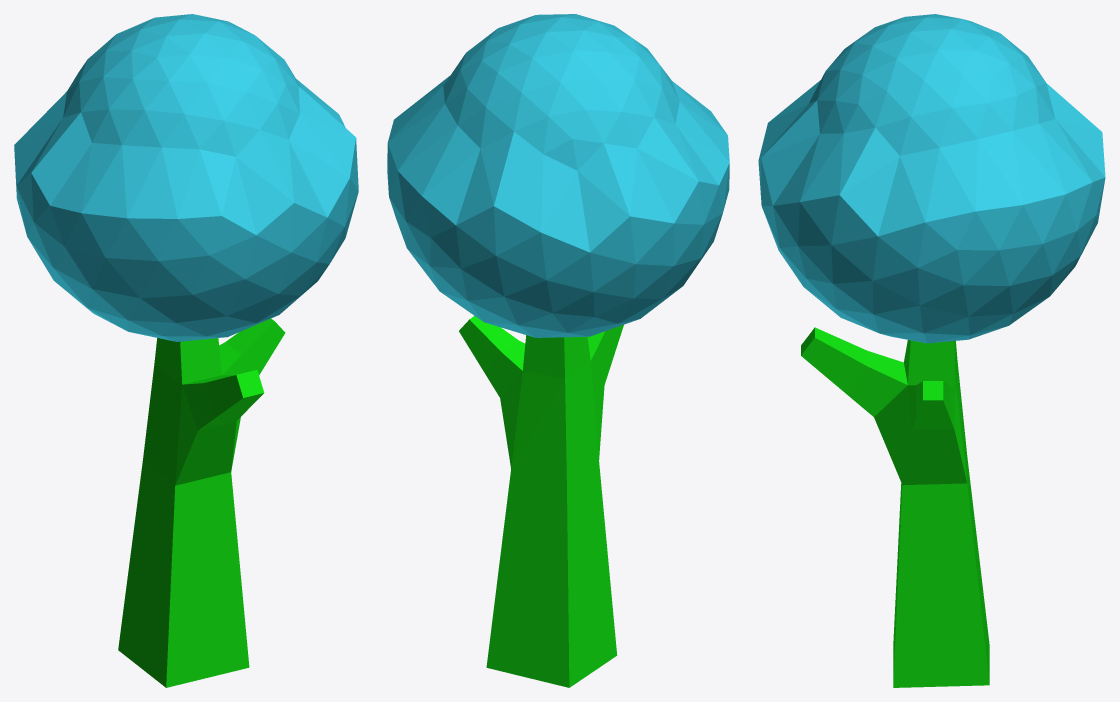
Rendered from SweerTrees5.fbx.
3 views of the same model, side by side, from view 1: azimuth 30°, elevation 25°; view 2: azimuth 150°, elevation 25°; view 3: azimuth 270°, elevation 25° (orthographic).
Visible parts, largest first — view 1: Icosphere.004, Cube.005; view 2: Icosphere.004, Cube.005; view 3: Icosphere.004, Cube.005.
Boxes of the visible parts, x1=… form: Icosphere.004: x1=14, y1=14, x2=358, y2=341; Cube.005: x1=118, y1=318, x2=285, y2=687; Icosphere.004: x1=387, y1=14, x2=729, y2=337; Cube.005: x1=459, y1=316, x2=623, y2=687; Icosphere.004: x1=758, y1=14, x2=1105, y2=343; Cube.005: x1=801, y1=327, x2=989, y2=687.
Bounding box in the file's own units: 1.51 × 3.07 × 1.51.
